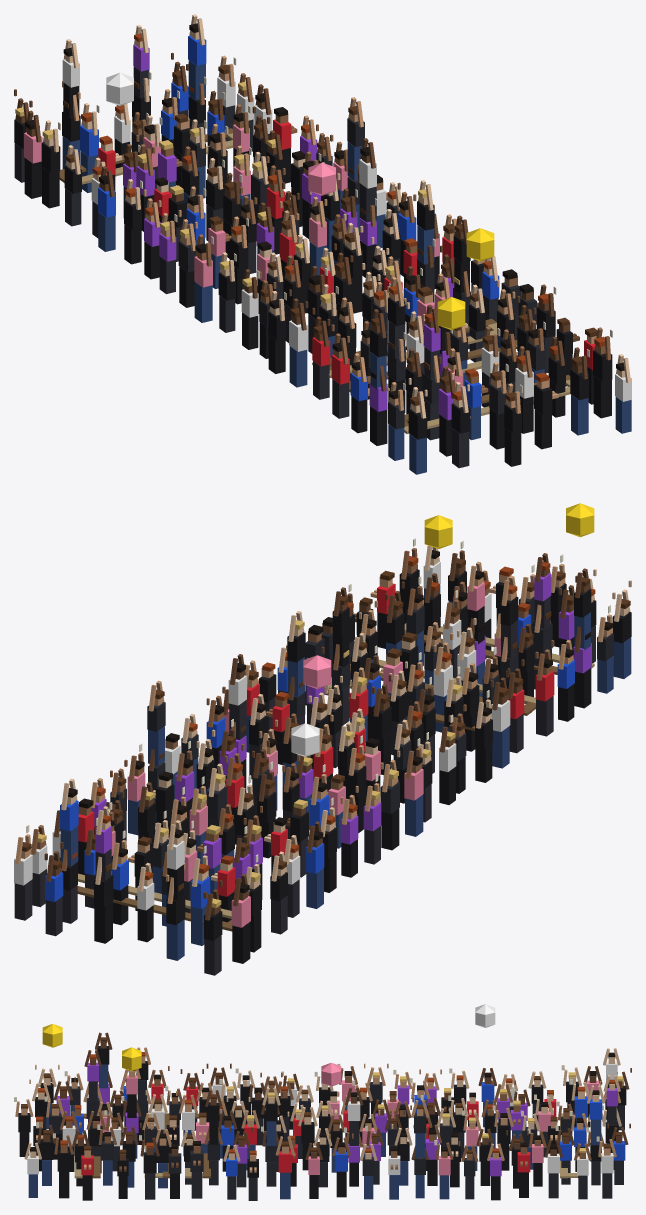
File: publico_concierto_2.obj
3 views of the same model, one above another, from view 1: azimuth 30°, elevation 25°; view 2: azimuth 150°, elevation 25°; view 3: azimuth 270°, elevation 25° (orthographic). The views are drawn at different scales.
Parts seen in each view (by area): view 1: publico_concierto_2; view 2: publico_concierto_2; view 3: publico_concierto_2.
Part boxes in pixels (bbox=[...]): publico_concierto_2: bbox=[14, 14, 631, 474]; publico_concierto_2: bbox=[14, 503, 631, 975]; publico_concierto_2: bbox=[14, 1004, 631, 1200].
Size of the model in its own units: 5.73 by 4.17 by 18.63.
